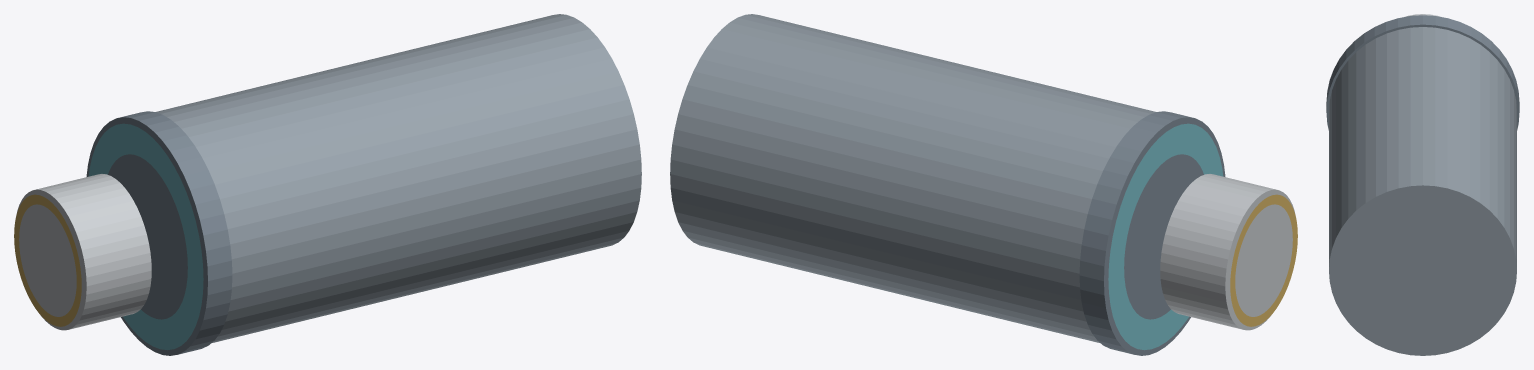
File: inductive_sensor.glb
3 renders of one model, left to right at view 1: azimuth 30°, elevation 25°; view 2: azimuth 150°, elevation 25°; view 3: azimuth 270°, elevation 25°, orthographic. The views are drawn at different scales.
Visible parts, largest first — view 1: Housing, MetalTarget, FrontCap, SensingFace, TargetRim; view 2: Housing, MetalTarget, FrontCap, SensingFace, TargetRim; view 3: Housing, FrontCap.
Part boxes in pixels (x1,y1,x2,y2): Housing: (156,14,641,342); MetalTarget: (16,174,151,330); FrontCap: (86,111,232,355); SensingFace: (88,123,203,350); TargetRim: (14,194,81,326); Housing: (670,14,1155,342); MetalTarget: (1160,174,1295,330); FrontCap: (1079,111,1225,355); SensingFace: (1108,123,1223,350); TargetRim: (1230,194,1297,326); Housing: (1329,27,1516,355); FrontCap: (1326,15,1519,130).
Bounding box in the file's own units: 0.985 × 0.39 × 0.39.
